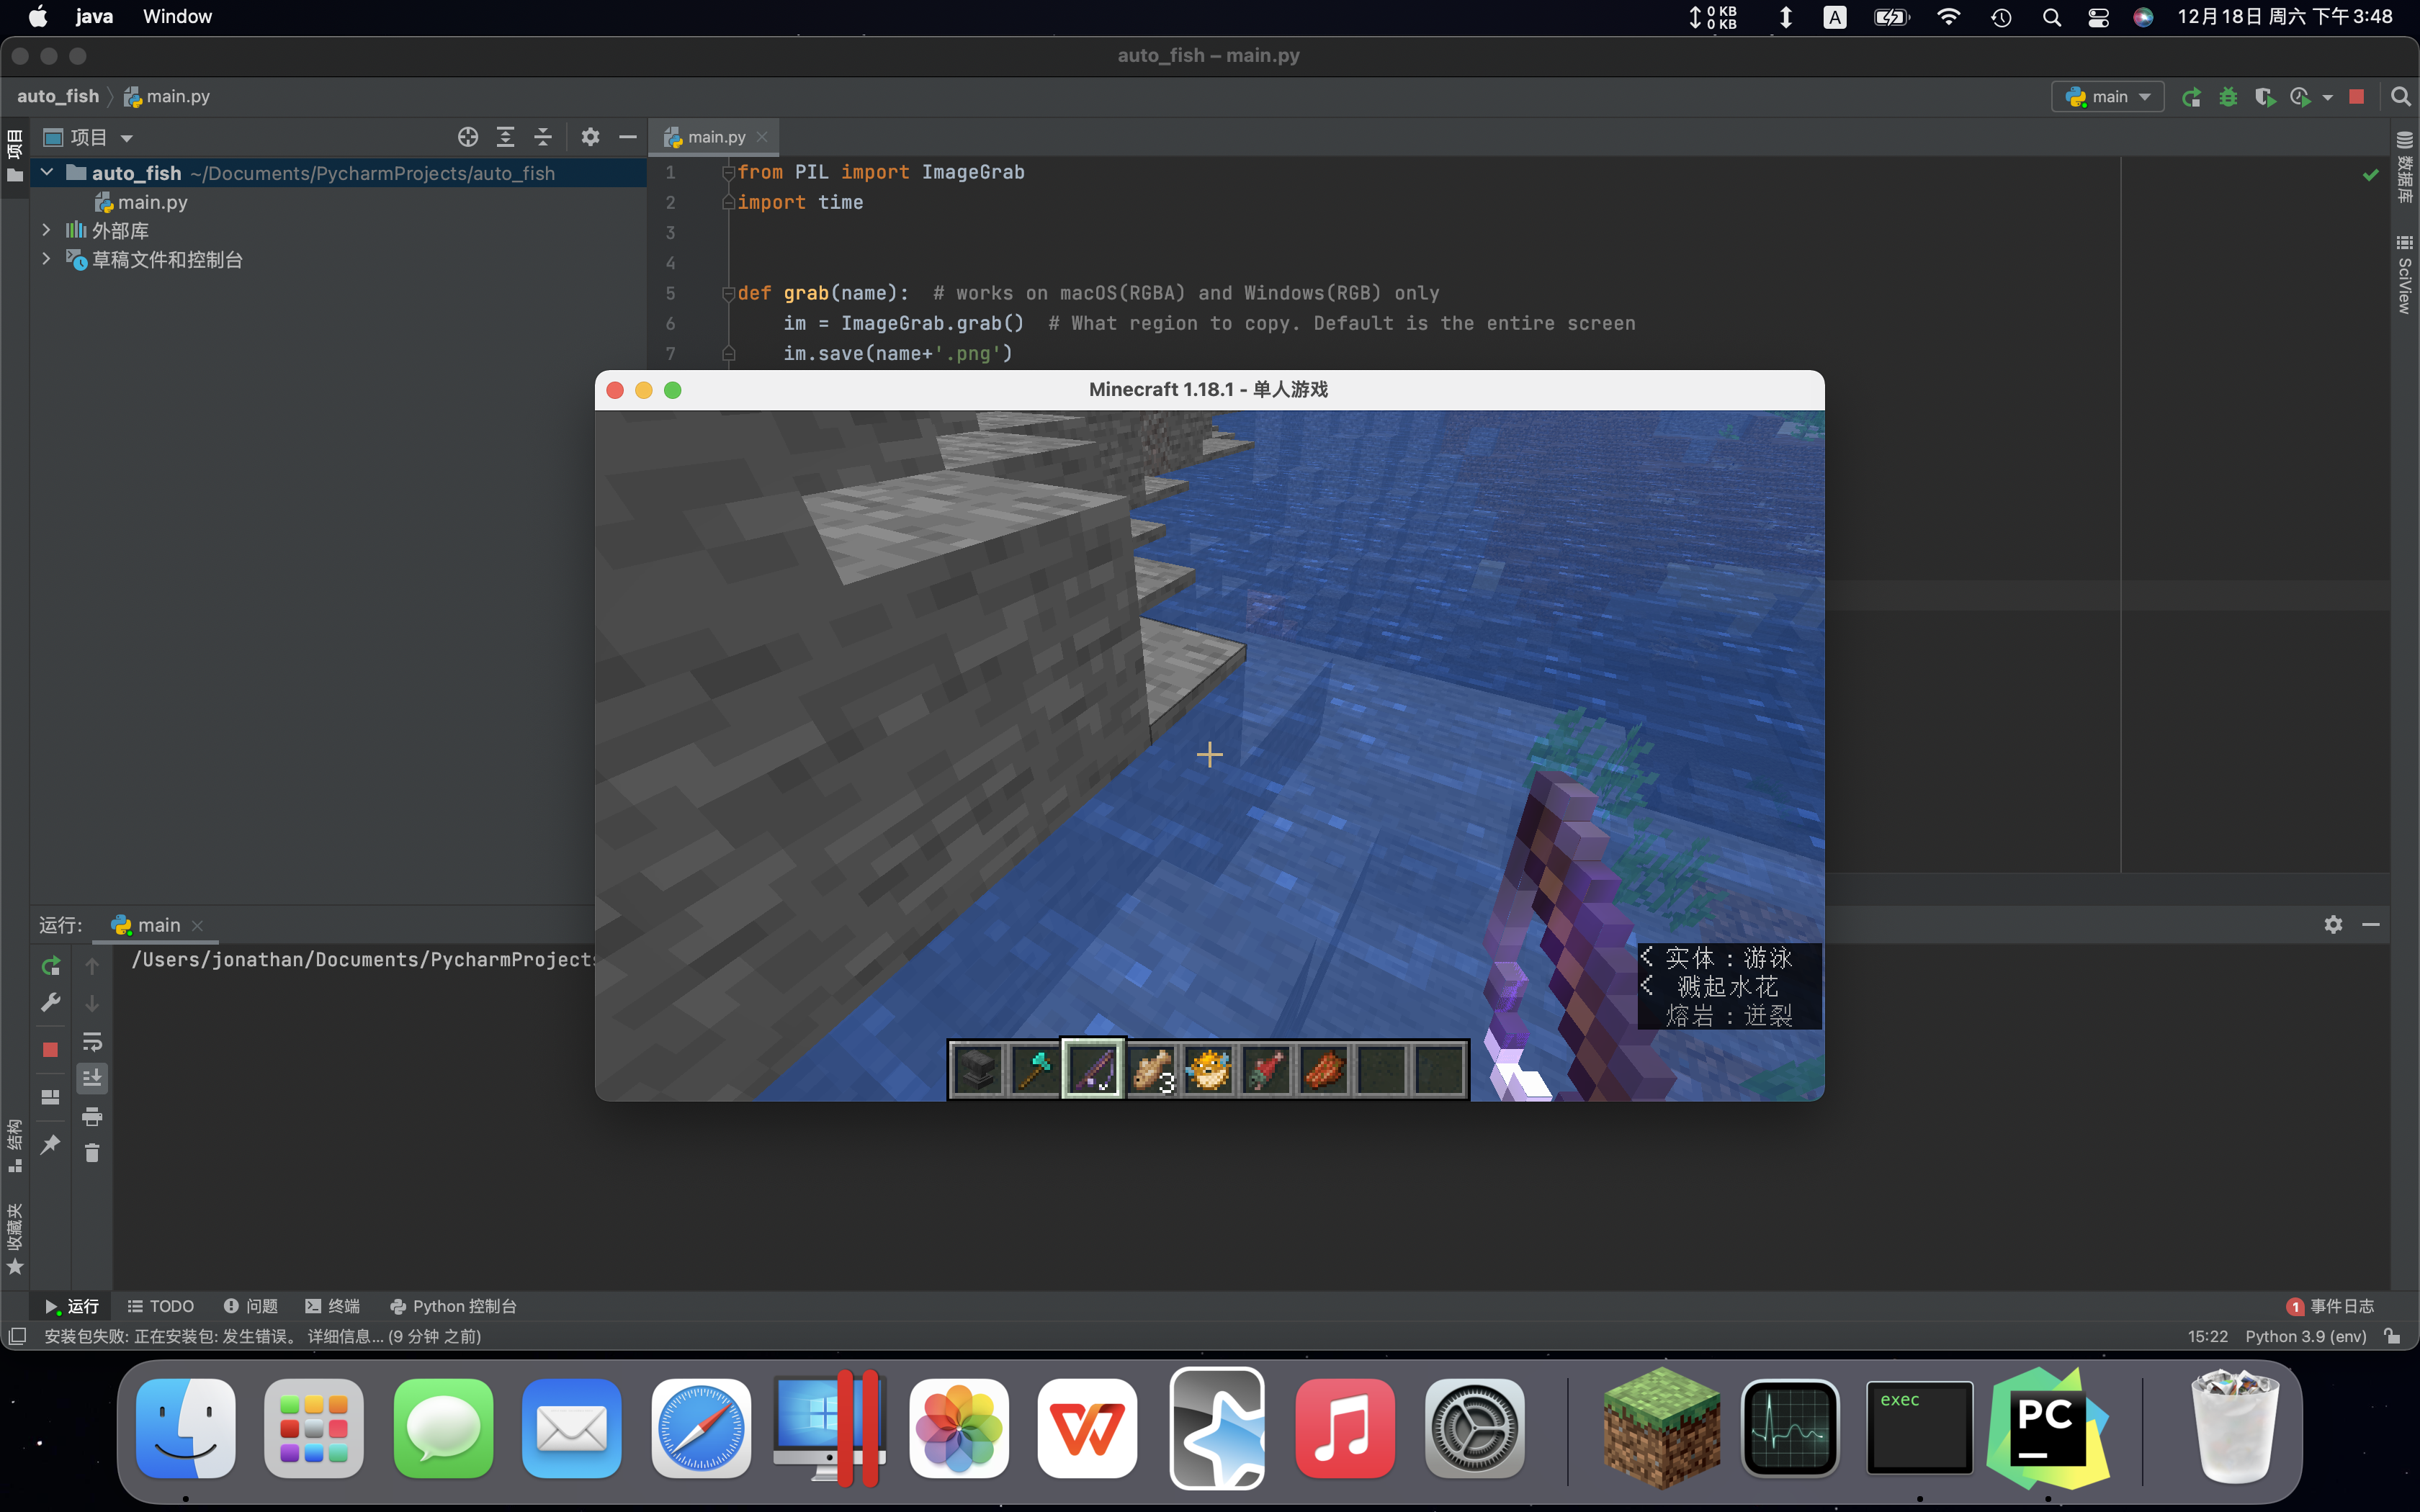inf: (1638, 942, 1821, 1029)
